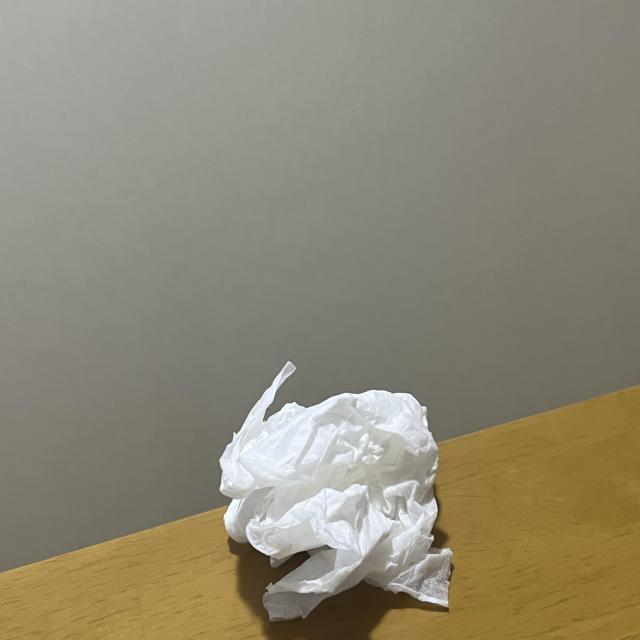Paper: (209, 362, 443, 631)
